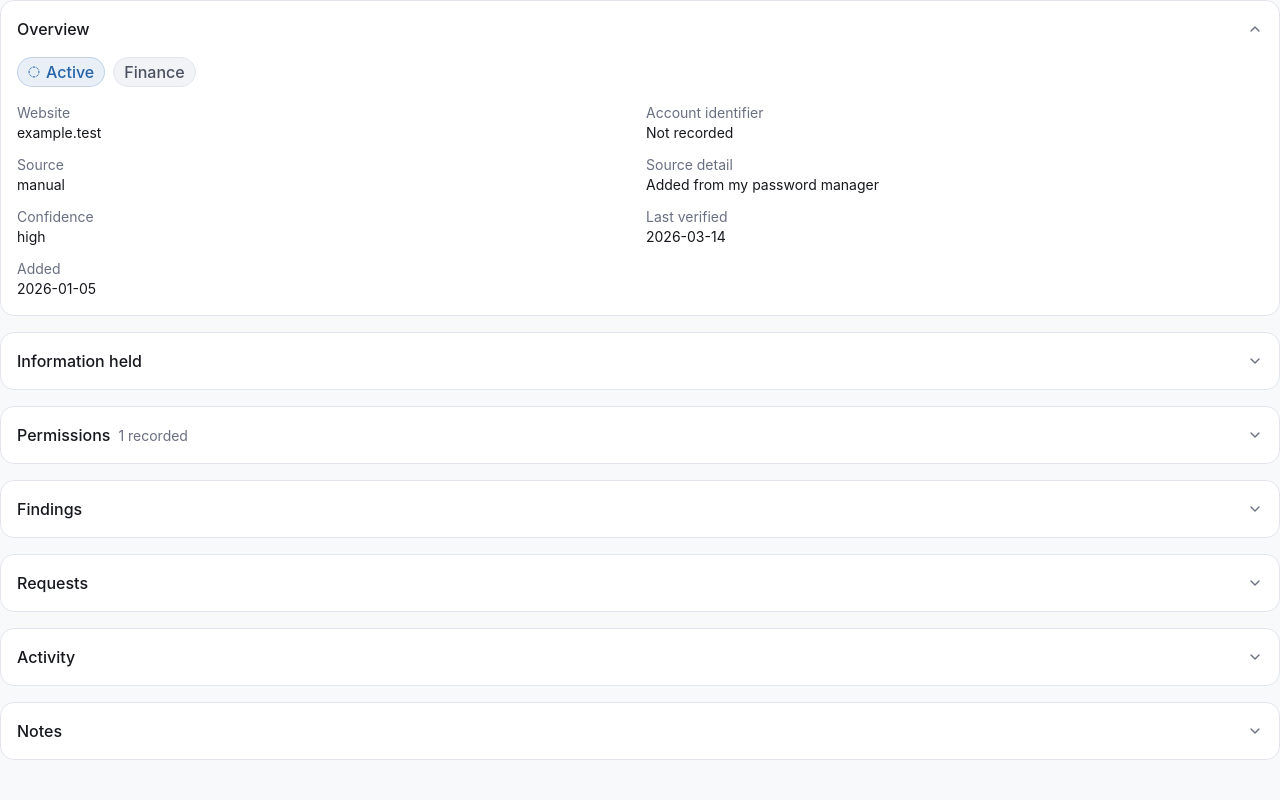
Test: source and last verified, only where the record has them › shows a permission's verified date but never a source or confidence
Click the heading "Permissions": click(64, 435) [17,423,110,447]
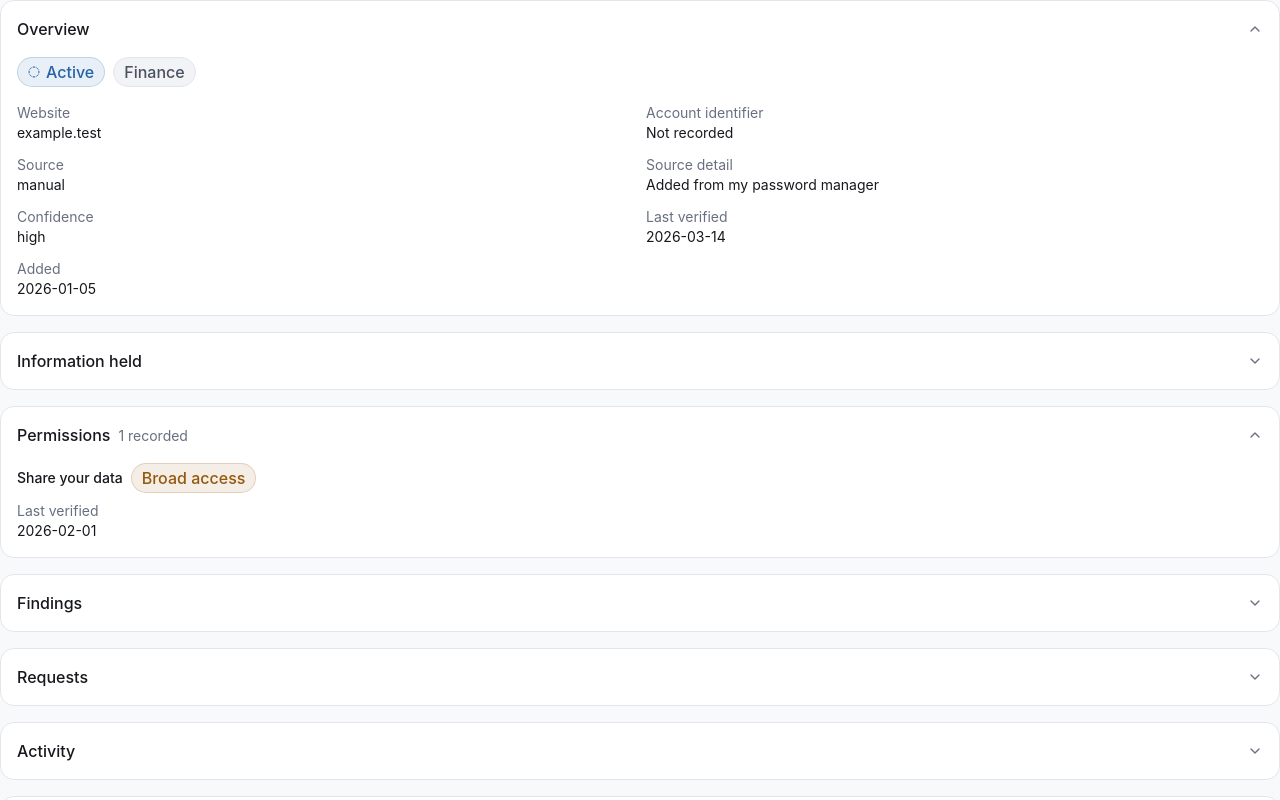
Result: the text "Last verified" below "Share your data" is shown at [17,502,98,519]
Result: the text "2026-02-01" is shown at [17,522,96,539]
